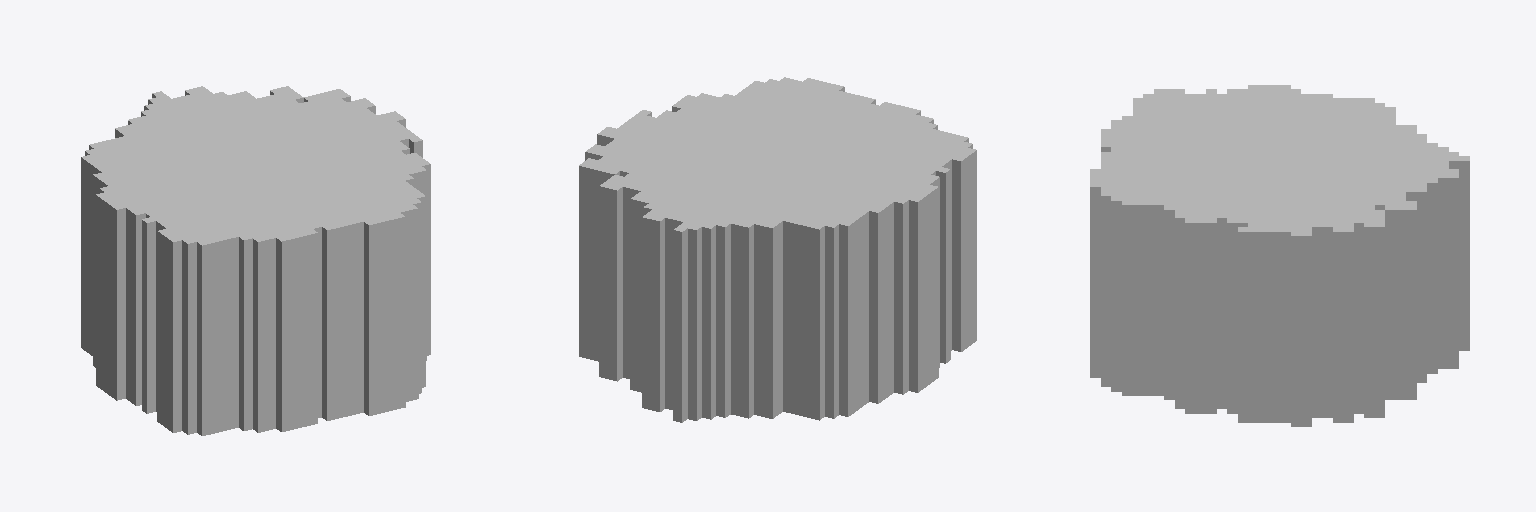
File: filled.obj
3 views of the same model, side by side, from view 1: azimuth 30°, elevation 25°; view 2: azimuth 150°, elevation 25°; view 3: azimuth 270°, elevation 25° (orthographic).
Parts seen in each view (by area): view 1: filled_island-0.001; view 2: filled_island-0.001; view 3: filled_island-0.001.
Part boxes in pixels (left/top/right/bottom): filled_island-0.001: left=81, top=86, right=430, bottom=435; filled_island-0.001: left=579, top=77, right=976, bottom=422; filled_island-0.001: left=1090, top=85, right=1469, bottom=426.
Size of the model in its own units: 3.4 by 2 by 3.6.